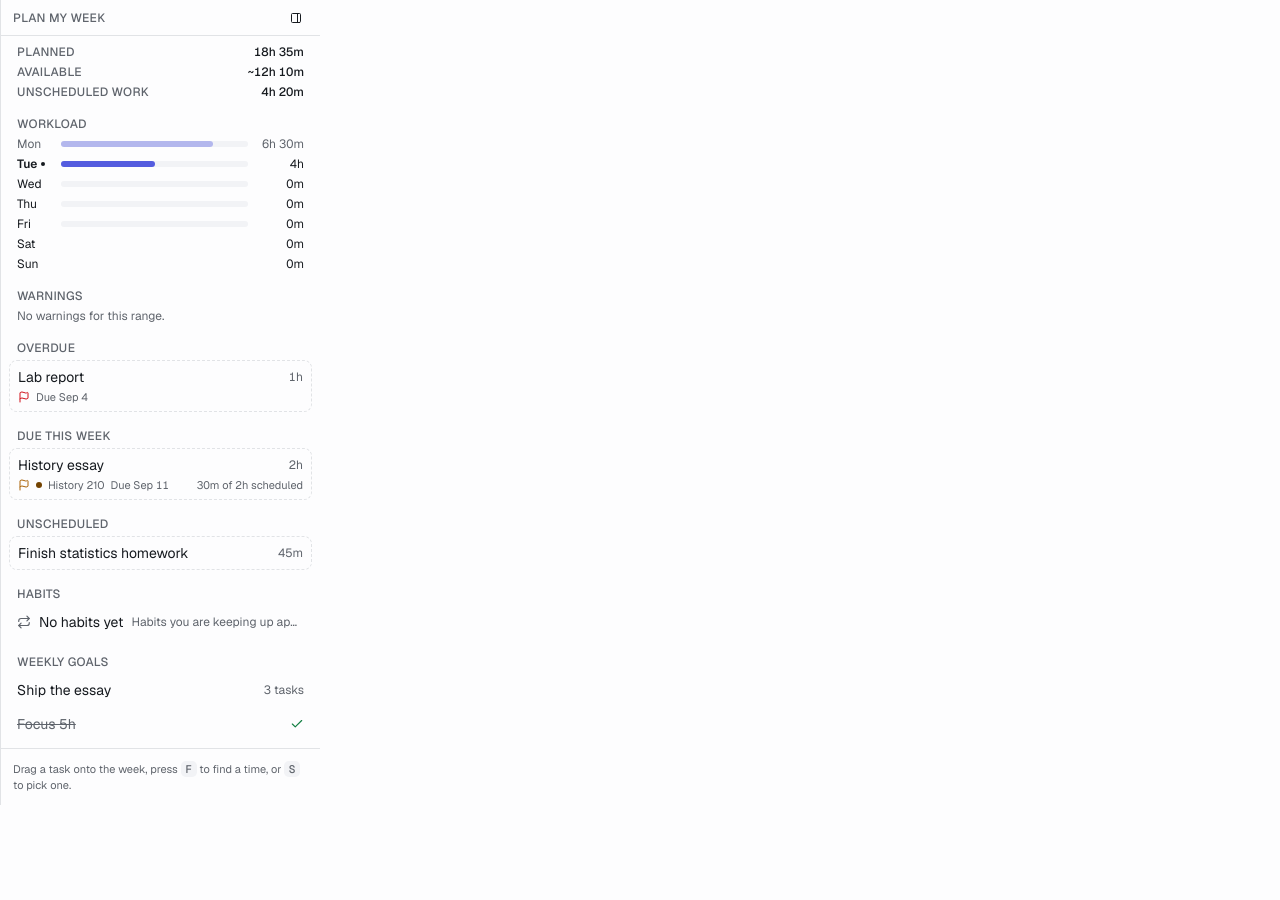
Scenario: PlanningDrawer › opens Find Time on activation too
Step 1. Click the button "Lab report 1h Due Sep 4" → {"x": 51, "y": 377}, box [9,360,312,412]
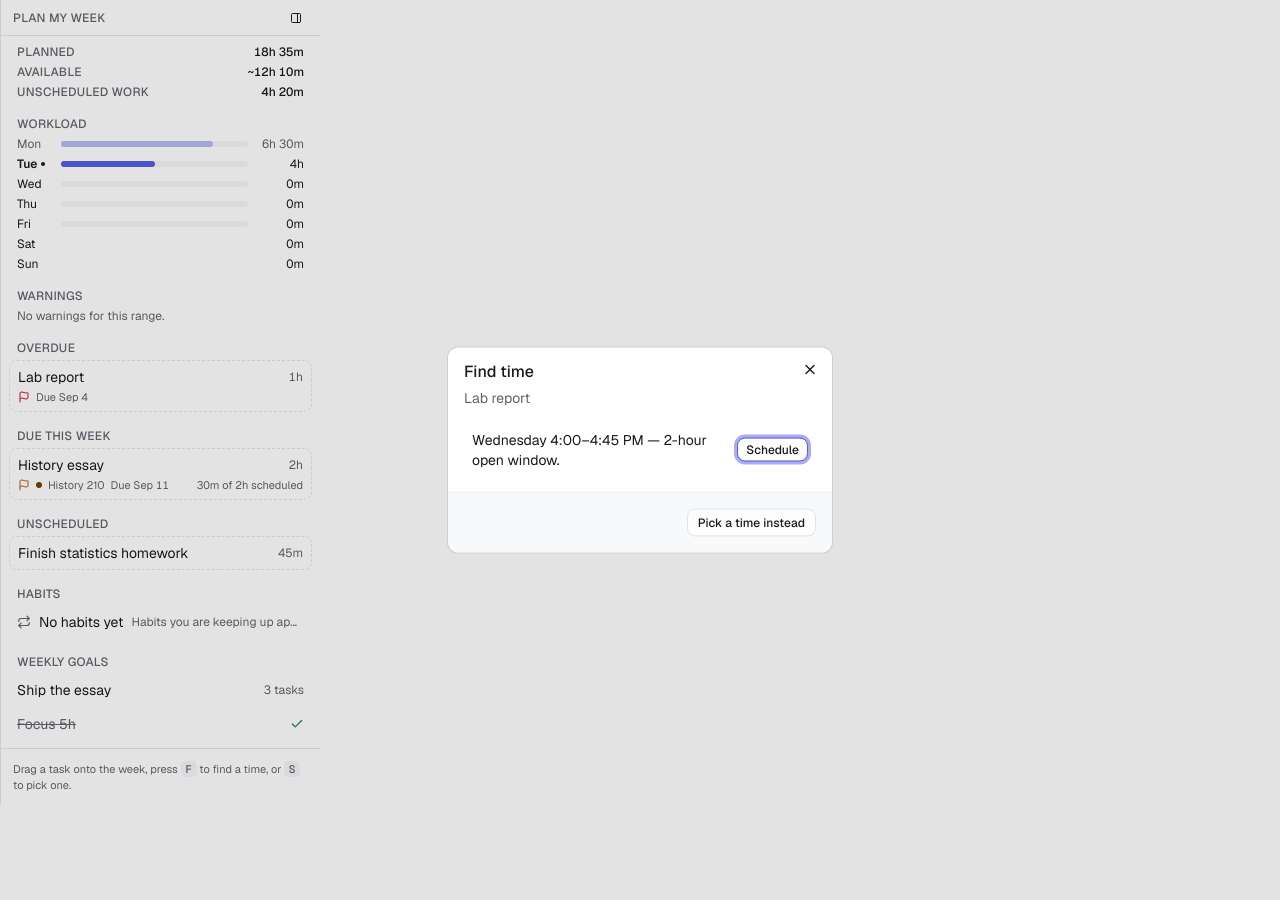
Expected: the dialog "Find time" is shown, [448,348,832,552]
